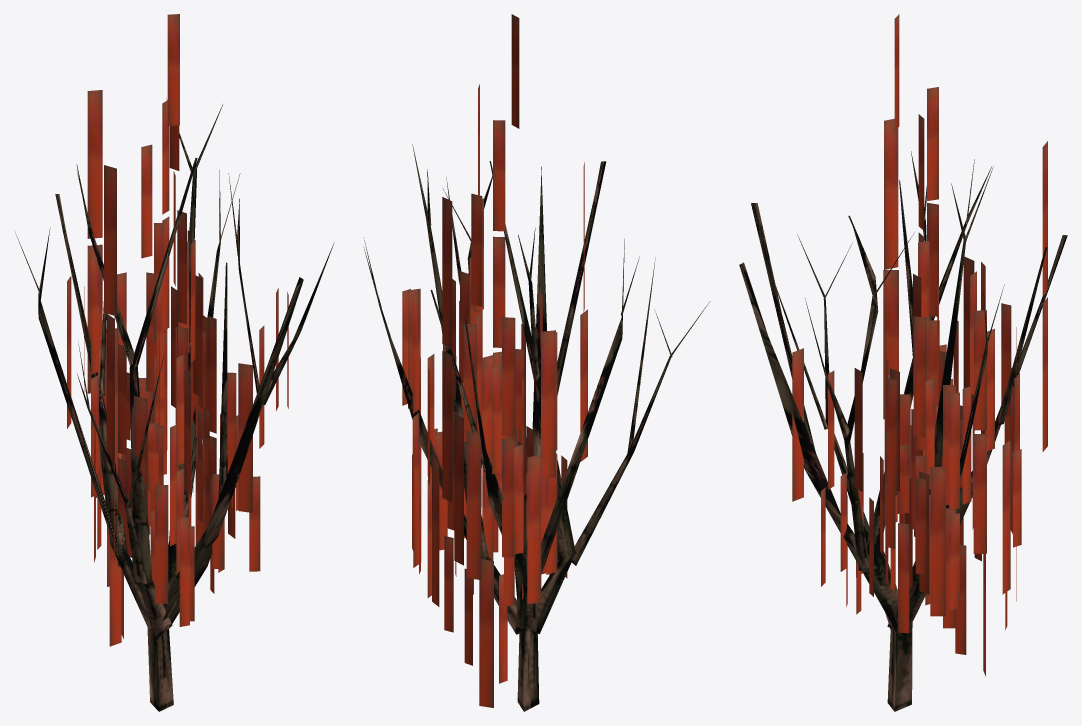
File: RedTree_9.gltf
The picture shows the model from 3 angles, left to right: view 1: azimuth 30°, elevation 25°; view 2: azimuth 150°, elevation 25°; view 3: azimuth 270°, elevation 25°; orthographic projection.
Parts seen in each view (by area): view 1: RedTree_9; view 2: RedTree_9; view 3: RedTree_9.
Boxes of the visible parts, bbox=[...] form: RedTree_9: bbox=[15, 14, 334, 711]; RedTree_9: bbox=[363, 14, 709, 711]; RedTree_9: bbox=[739, 14, 1067, 711].
Size of the model in its own units: 3.04 by 7.66 by 3.28.
Materials: 90 (90 with a texture image).
